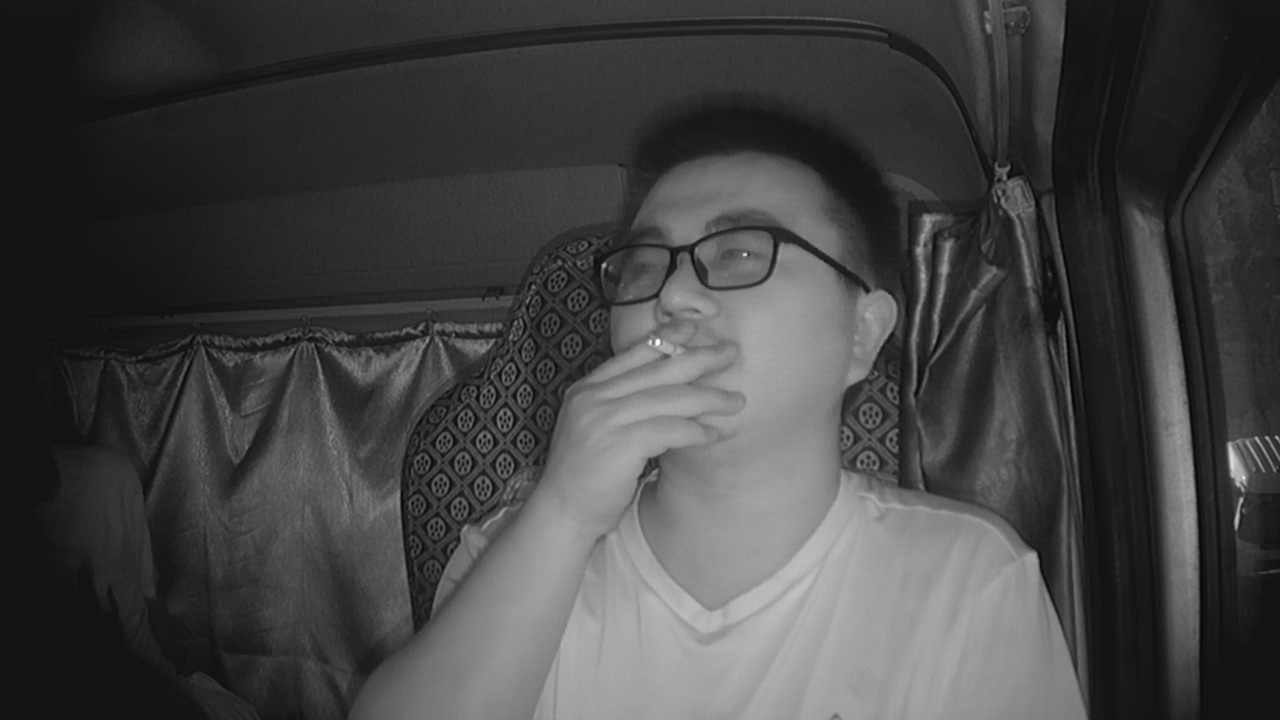hand: (591, 321, 729, 471)
